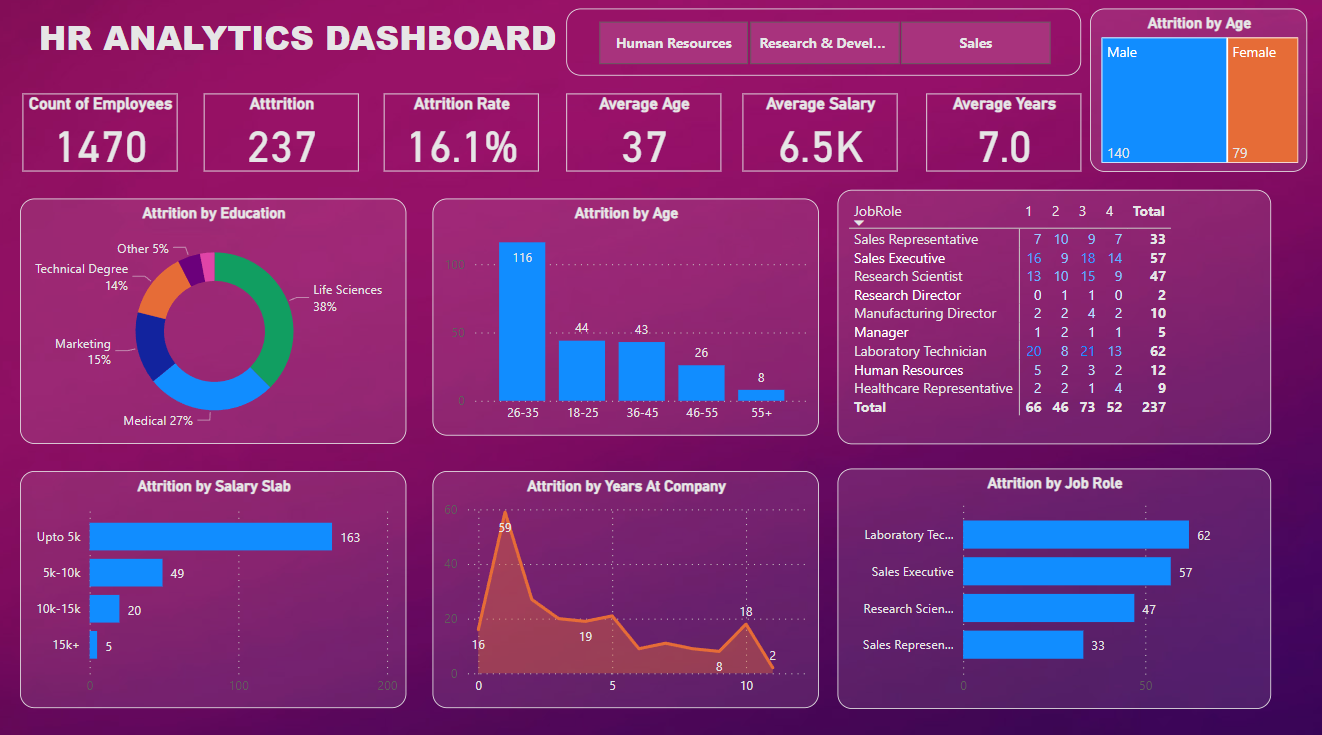

The dashboard page shown, as its layout file describes it:
{"tool":"powerbi","page":{"name":"HR Dashboard","canvas":[1280,720],"ordinal":0},"visuals":[{"type":"card","title":"Count of Employees","fields":{"Values":["Count(HR_Analytics.EmpID)"]},"box":[26,98.7,149.4,75.4],"z":0},{"type":"card","title":"Atttrition","fields":{"Values":["Sum(HR_Analytics.AttritionCount)"]},"box":[201.5,98.7,149.4,75.4],"z":1000},{"type":"card","title":"Attrition Rate","fields":{"Values":["HR_Analytics.AttritionRate"]},"box":[375.7,98.7,149.4,75.4],"z":2000},{"type":"card","title":"Average Age","fields":{"Values":["Avg(HR_Analytics.Age)"]},"box":[551.2,98.7,149.4,75.4],"z":3000},{"type":"card","title":"Average Salary","fields":{"Values":["Avg(HR_Analytics.MonthlyIncome)"]},"box":[721.2,98.7,149.4,75.4],"z":4000},{"type":"card","title":"Average Years","fields":{"Values":["Avg(HR_Analytics.YearsAtCompany)"]},"box":[898,98.7,149.4,75.4],"z":5000},{"type":"donutChart","title":"Attrition by Education","fields":{"Category":["HR_Analytics.EducationField"],"Y":["Sum(HR_Analytics.AttritionCount)"]},"box":[24.7,200.2,372.9,237.2],"z":6000},{"type":"columnChart","title":"Attrition by Age","fields":{"Category":["HR_Analytics.AgeGroup"],"Y":["Sum(HR_Analytics.AttritionCount)"]},"box":[422.3,200.2,372.9,229],"z":7000},{"type":"pivotTable","fields":{"Rows":["HR_Analytics.JobRole"],"Columns":["HR_Analytics.JobSatisfaction"],"Values":["Sum(HR_Analytics.AttritionCount)"]},"box":[813,191.9,418.2,245.4],"z":8000},{"type":"barChart","title":"Attrition by Job Role","fields":{"Category":["HR_Analytics.JobRole","HR_Analytics.SalarySlab"],"Y":["Sum(HR_Analytics.AttritionCount)"]},"box":[813,460.7,418.2,231.7],"z":9000},{"type":"barChart","title":"Attrition by Salary Slab","fields":{"Category":["HR_Analytics.SalarySlab"],"Y":["Sum(HR_Analytics.AttritionCount)"]},"box":[24.7,463.4,372.9,229],"z":10000},{"type":"areaChart","title":"Attrition by Years At Company","fields":{"Category":["HR_Analytics.YearsAtCompany"],"Y":["Sum(HR_Analytics.AttritionCount)"]},"box":[422.3,463.4,372.9,229],"z":11000},{"type":"treemap","title":"Attrition by Age","fields":{"Group":["HR_Analytics.Gender"],"Values":["Sum(HR_Analytics.AttritionCount)"]},"box":[1057.1,16.5,209.8,157.7],"z":12000},{"type":"slicer","title":"Department","fields":{"Values":["HR_Analytics.Department"]},"box":[551.2,16.9,496.9,65.1],"z":13000},{"type":"textbox","box":[0,16.9,594.6,74.8],"z":14000}]}

Visuals, with their boxes in screenshot pixels (x1, y1, x2, y2), scaled from the page's 1280x720 canvas onto the 1322x735 screenshot:
"Count of Employees" card: (left=27, top=101, right=181, bottom=178)
"Atttrition" card: (left=208, top=101, right=362, bottom=178)
"Attrition Rate" card: (left=388, top=101, right=542, bottom=178)
"Average Age" card: (left=569, top=101, right=724, bottom=178)
"Average Salary" card: (left=745, top=101, right=899, bottom=178)
"Average Years" card: (left=927, top=101, right=1082, bottom=178)
"Attrition by Education" donutChart: (left=26, top=204, right=411, bottom=447)
"Attrition by Age" columnChart: (left=436, top=204, right=821, bottom=438)
pivotTable - HR_Analytics.JobRole x HR_Analytics.JobSatisfaction: (left=840, top=196, right=1272, bottom=446)
"Attrition by Job Role" barChart: (left=840, top=470, right=1272, bottom=707)
"Attrition by Salary Slab" barChart: (left=26, top=473, right=411, bottom=707)
"Attrition by Years At Company" areaChart: (left=436, top=473, right=821, bottom=707)
"Attrition by Age" treemap: (left=1092, top=17, right=1308, bottom=178)
"Department" slicer: (left=569, top=17, right=1082, bottom=84)
textbox: (left=0, top=17, right=614, bottom=94)
